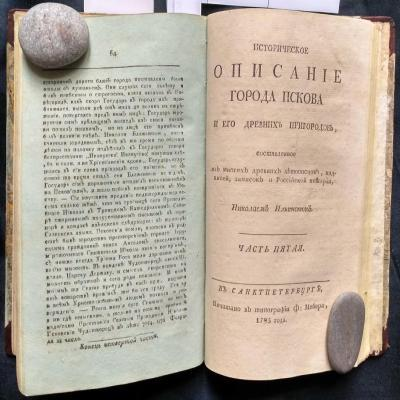rare_books: (4, 3, 394, 398)
